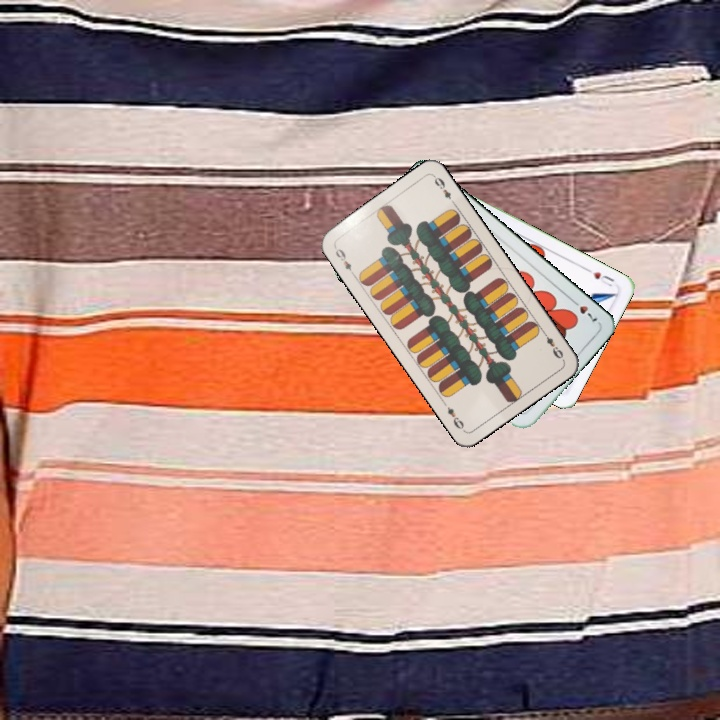E9: (538, 327, 566, 363), (330, 242, 358, 278)
H7: (567, 295, 600, 325)
HU: (582, 264, 617, 289)
